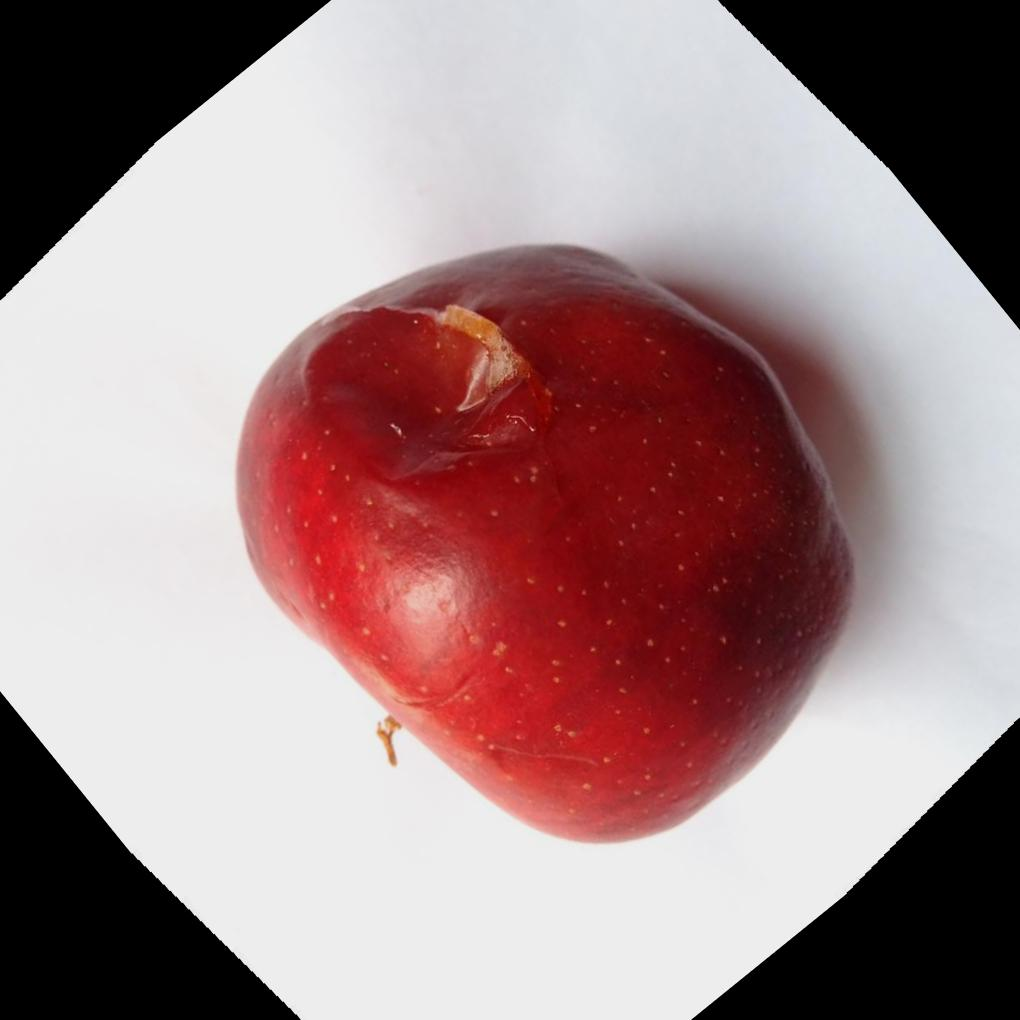FreshOrange: (236, 240, 860, 845)
